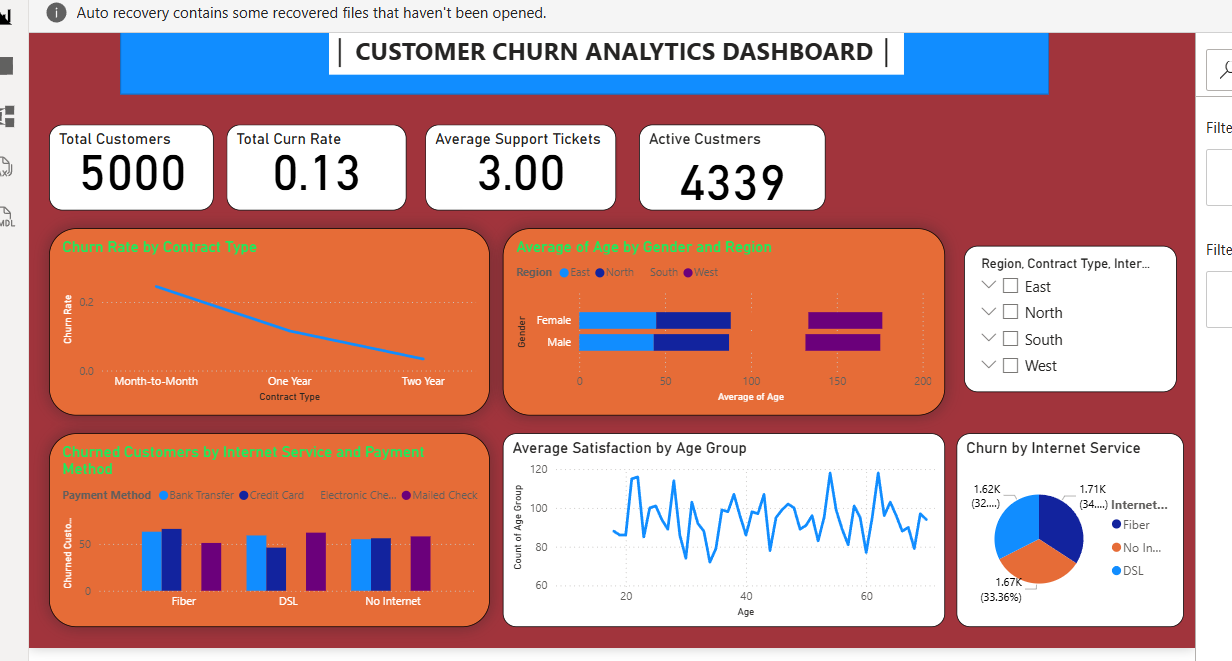

The dashboard page shown, as its layout file describes it:
{"tool":"powerbi","page":{"name":"Page 1","canvas":[1280,720],"ordinal":0},"visuals":[{"type":"shape","box":[100.2,0,1019.6,112.5],"z":0},{"type":"textbox","box":[329.3,41.2,631.2,49.4],"z":1000},{"type":"card","title":"Total Customers","fields":{"Values":["CountNonNull(Customer_Churn.Customer ID)"]},"box":[22,145.5,181.1,94.7],"z":2000},{"type":"card","title":"Total Curn Rate","fields":{"Values":["Customer_Churn.Churn Rate"]},"box":[216.8,145.5,197.6,94.7],"z":3000},{"type":"card","title":"Average Support Tickets","fields":{"Values":["Avg(Customer_Churn.Satisfaction Score)"]},"box":[435,145.5,209.9,94.7],"z":4000},{"type":"lineChart","fields":{"Y":["Customer_Churn.Churn Rate"],"Category":["Customer_Churn.Contract Type"]},"box":[22,259.3,484.4,205.8],"z":5000},{"type":"clusteredColumnChart","fields":{"Series":["Customer_Churn.Payment Method"],"Y":["Customer_Churn.Churned Customers"],"Category":["Customer_Churn.Internet Service"]},"box":[22,484.4,484.4,212.7],"z":6000},{"type":"barChart","fields":{"Series":["Customer_Churn.Region"],"Category":["Customer_Churn.Gender"],"Y":["Avg(Customer_Churn.Age)"]},"box":[520.1,259.3,485.8,205.8],"z":7000},{"type":"lineChart","title":"Average Satisfaction by Age Group","fields":{"Y":["CountNonNull(Customer_Churn.Age Group)"],"Category":["Customer_Churn.Age"]},"box":[520.1,484.4,485.8,212.7],"z":8000},{"type":"pieChart","title":"Churn by Internet Service","fields":{"Category":["Customer_Churn.Internet Service"],"Y":["CountNonNull(Customer_Churn.Gender)"]},"box":[1018.2,484.4,249.7,212.7],"z":9000},{"type":"slicer","fields":{"Values":["Customer_Churn.Region","Customer_Churn.Contract Type","Customer_Churn.Internet Service","Customer_Churn.Payment Method","Customer_Churn.Gender","Customer_Churn.Age Group"]},"box":[1026.4,278.6,233.3,160.5],"z":10000},{"type":"card","title":"Active Custmers","fields":{"Values":["Customer_Churn.Active Customers"]},"box":[669.6,145.5,204.5,94.7],"z":11000}]}

Visuals, with their boxes in screenshot pixels (x1, y1, x2, y2):
shape: region(120, 0, 1043, 92)
textbox: region(327, 28, 898, 72)
"Total Customers" card: region(49, 122, 213, 208)
"Total Curn Rate" card: region(225, 122, 404, 208)
"Average Support Tickets" card: region(423, 122, 613, 208)
lineChart - Customer_Churn.Churn Rate x Customer_Churn.Contract Type: region(49, 225, 487, 411)
clusteredColumnChart - Customer_Churn.Payment Method x Customer_Churn.Churned Customers: region(49, 429, 487, 621)
barChart - Customer_Churn.Region x Customer_Churn.Gender: region(500, 225, 939, 411)
"Average Satisfaction by Age Group" lineChart: region(500, 429, 939, 621)
"Churn by Internet Service" pieChart: region(951, 429, 1177, 621)
slicer - Customer_Churn.Region x Customer_Churn.Contract Type: region(958, 243, 1169, 388)
"Active Custmers" card: region(635, 122, 820, 208)
